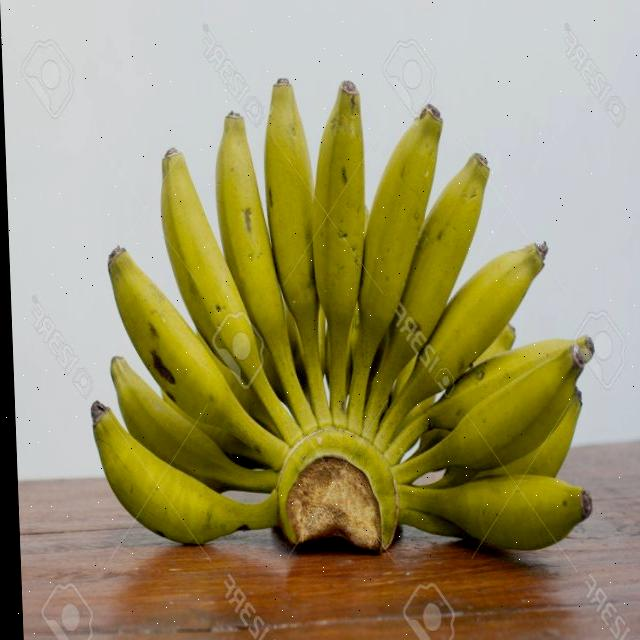banana: (73, 70, 611, 558)
